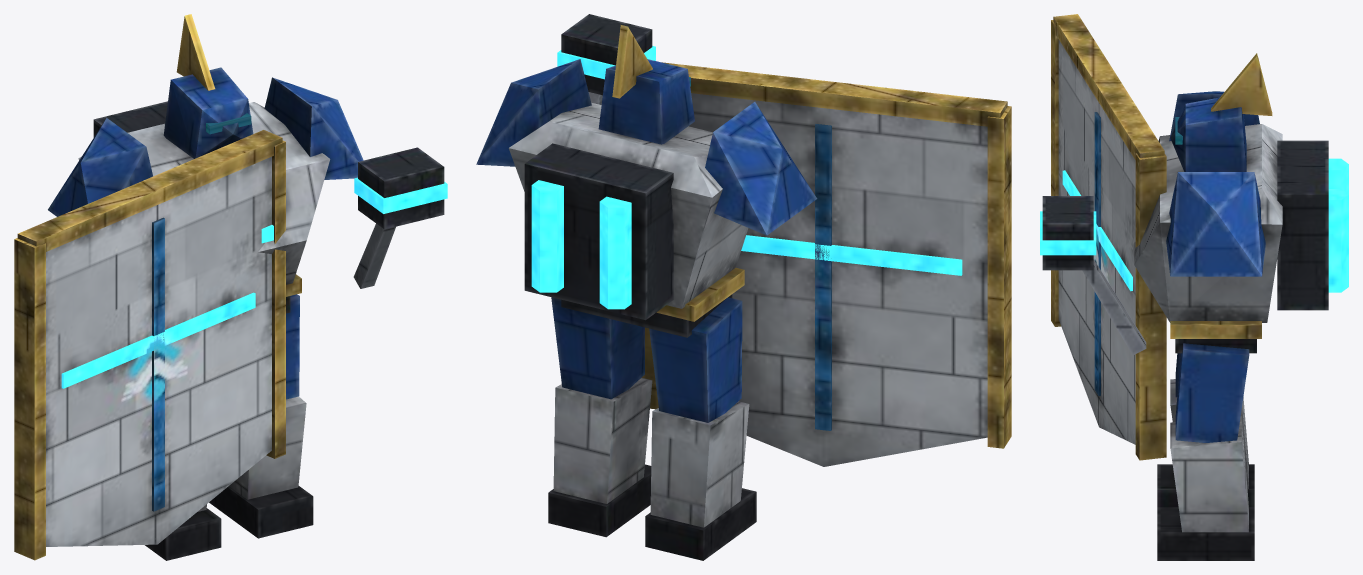
File: u_sentinel3_w.glb
3 renders of one model, left to right at view 1: azimuth 30°, elevation 25°; view 2: azimuth 150°, elevation 25°; view 3: azimuth 270°, elevation 25°, orthographic. The views are drawn at different scales.
Visible parts, largest first — view 1: u_sentinel3_w; view 2: u_sentinel3_w; view 3: u_sentinel3_w.
Part boxes in pixels (x1,y1,x2,y2): u_sentinel3_w: [14, 14, 447, 560]; u_sentinel3_w: [476, 14, 1011, 560]; u_sentinel3_w: [1040, 14, 1348, 560].
Size of the model in its own units: 2.34 by 2.65 by 1.57.
Materials: 1 (1 with a texture image).
